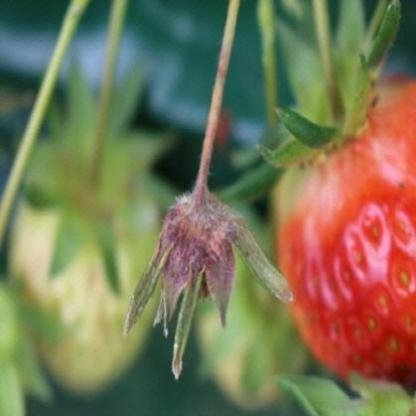Strawberry_Gray_Mold: (124, 178, 294, 378)
